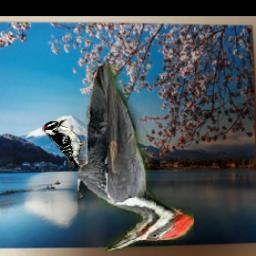Woodpecker: (79, 64, 195, 251), (43, 119, 98, 168)
